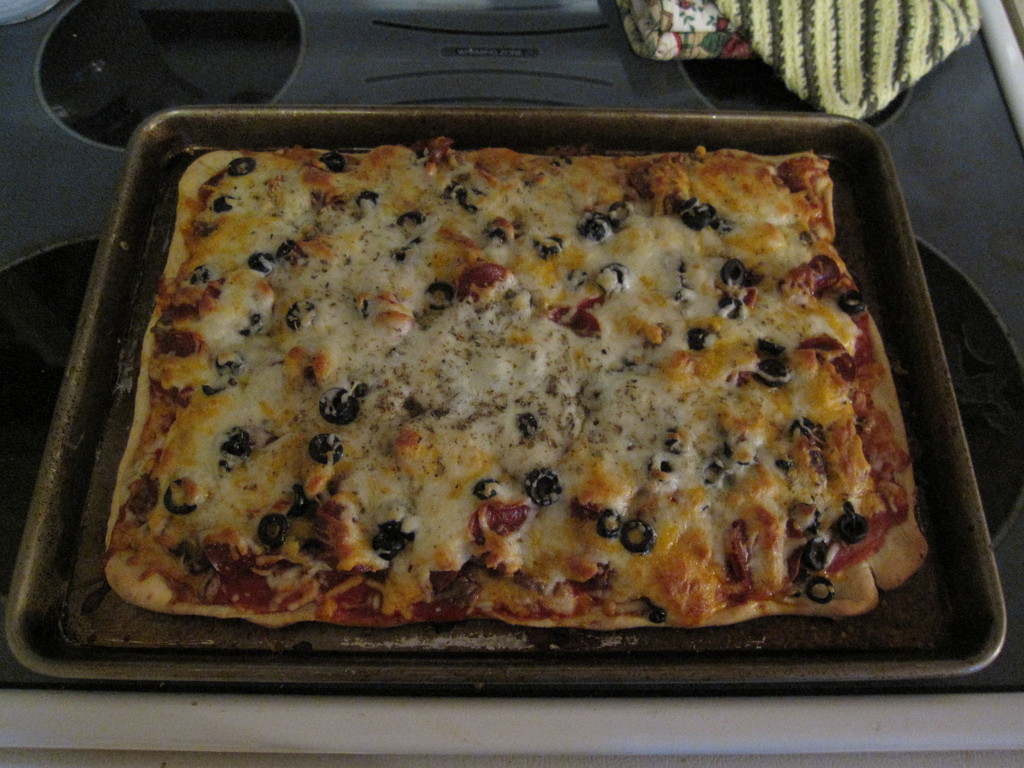Pizza: (101, 138, 938, 631)
